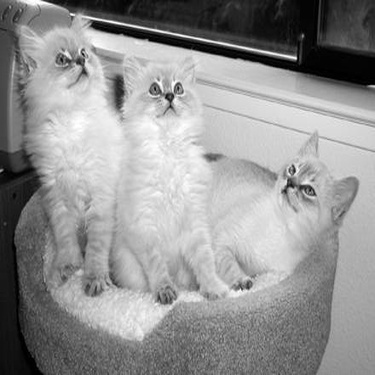cat: (103, 55, 231, 308), (14, 8, 122, 299), (197, 124, 360, 293)
